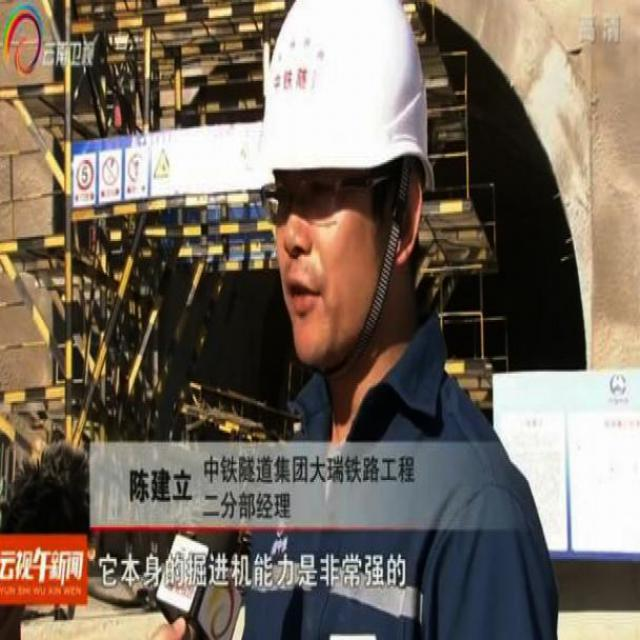helmet: (245, 0, 448, 392)
